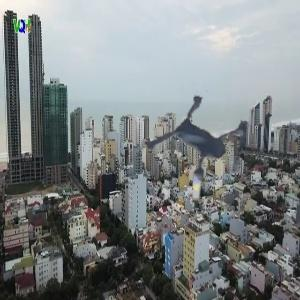drone: (123, 81, 268, 226)
